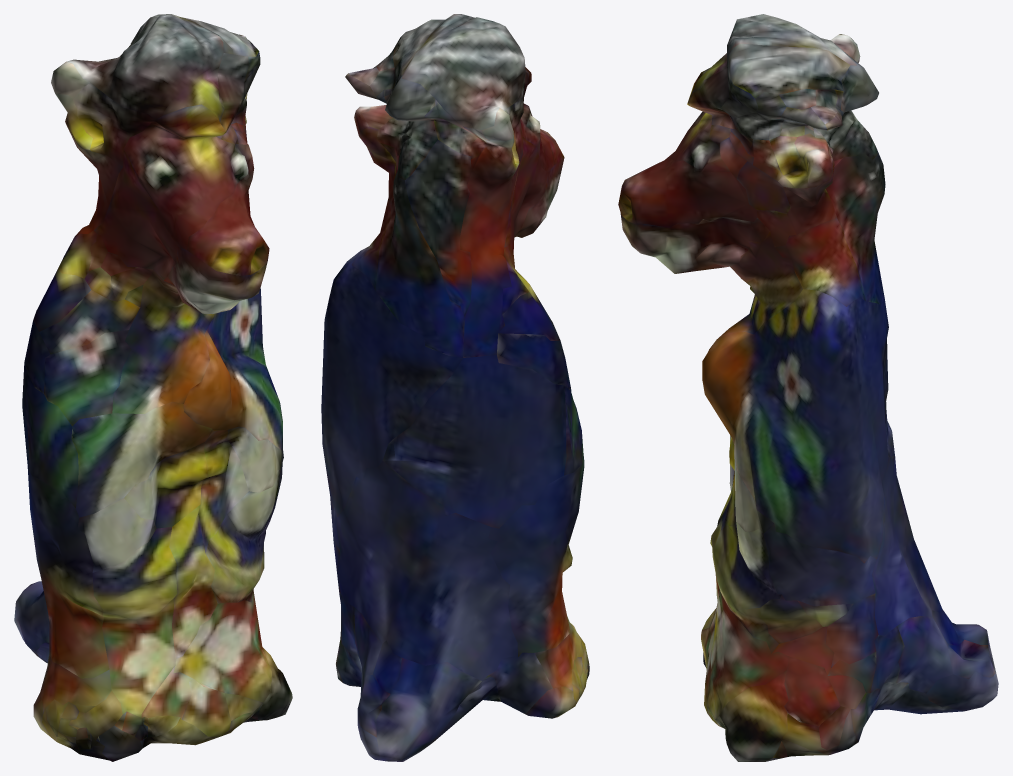
The model's file is hall.glb.
3 views of the same model, side by side, from view 1: azimuth 30°, elevation 25°; view 2: azimuth 150°, elevation 25°; view 3: azimuth 270°, elevation 25° (orthographic). The views are drawn at different scales.
Size of the model in its own units: 0.1454 by 0.3911 by 0.1943.
Materials: 1 (1 with a texture image).
